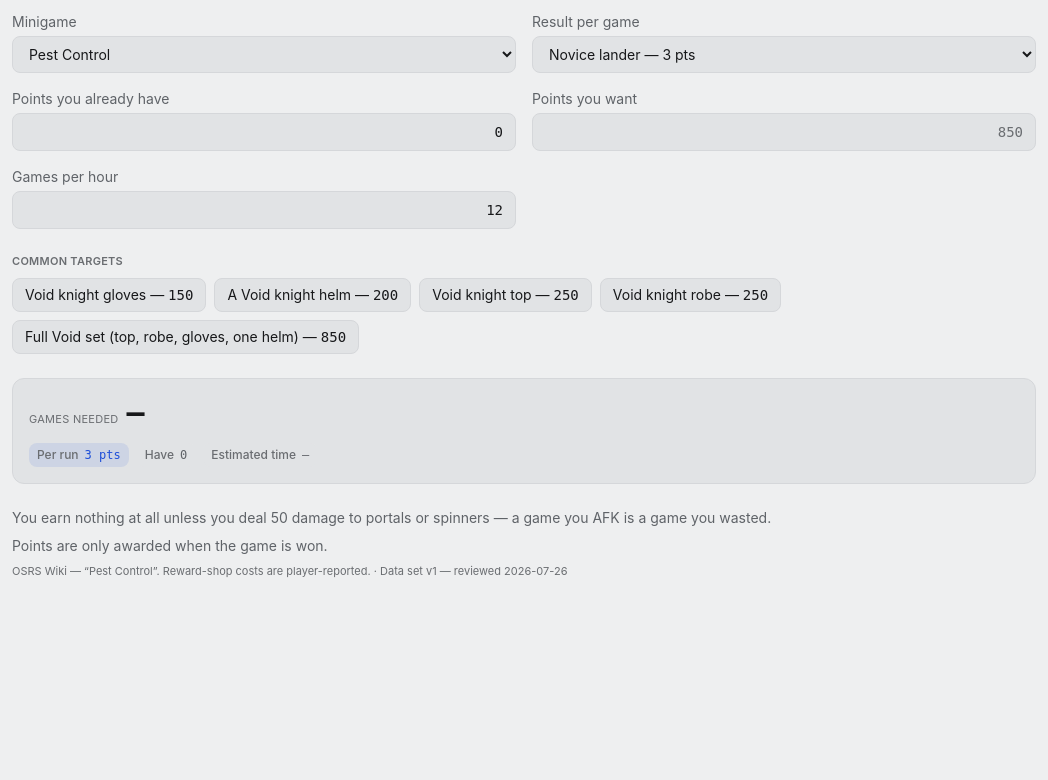
Test case: MinigamePointsCalculator › rounds up, because a partial game earns nothing
Type "100" into the field labelled "Points you want". click: (784, 132)
box: [532,113,1036,151]
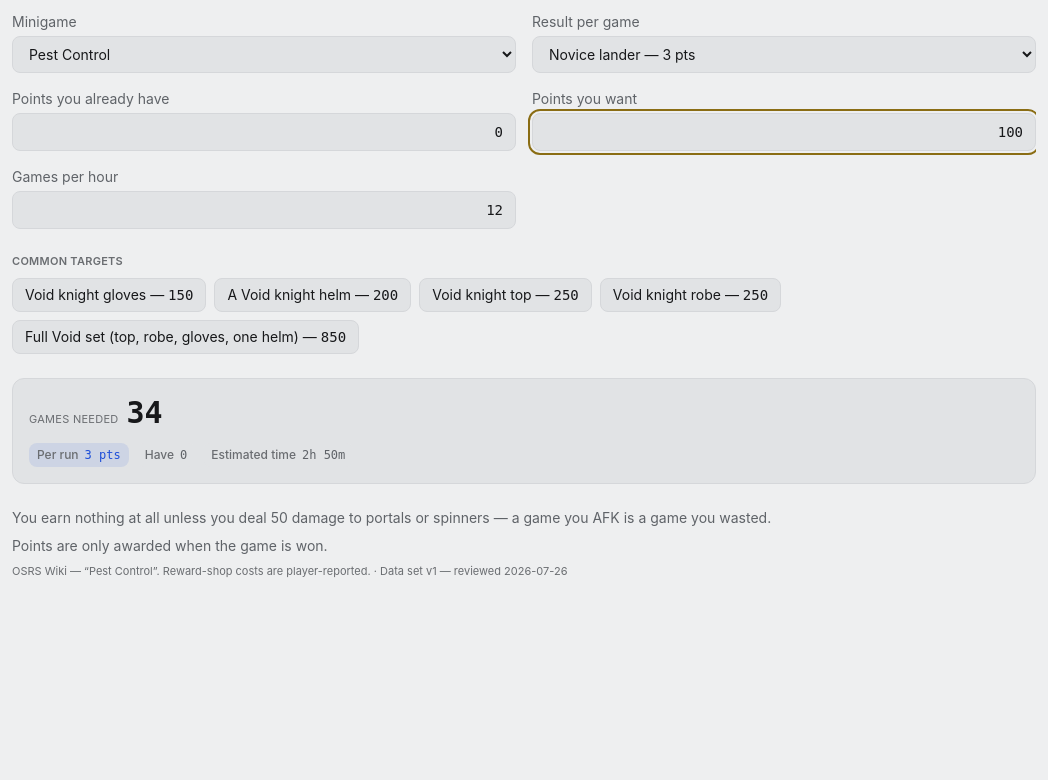
Expected: the message reads "34", [127,394,163,430]
